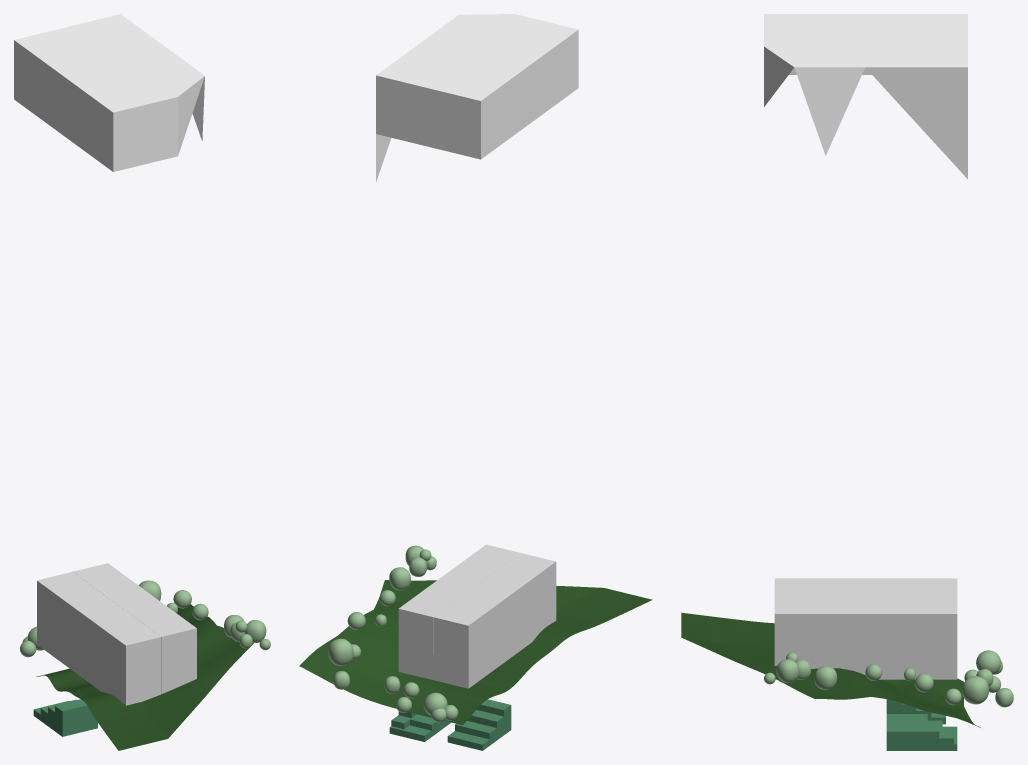
The model's file is QUT_Diagram_01.glb.
The picture shows the model from 3 angles, left to right: view 1: azimuth 30°, elevation 25°; view 2: azimuth 150°, elevation 25°; view 3: azimuth 270°, elevation 25°; orthographic projection. The views are drawn at different scales.
Parts seen in each view (by area): view 1: LayerD, LayerA_Big_1, Green.001, LayerA_Big_2, LayerC.000, Trees.002, LayerB.001, LayerA.002; view 2: LayerD, Green.001, LayerA_Big_1, LayerA_Big_2, Trees.002, LayerB.001, LayerC.000, LayerA.002, LayerA.001; view 3: LayerD, LayerA_Big_2, Green.001, Trees.002, LayerA_Big_1, LayerB.001, LayerA.001.
Part boxes in pixels (box(x1,y1,x2,y2)): LayerD: box(14, 14, 204, 171); LayerA_Big_1: box(37, 572, 161, 705); Green.001: box(36, 604, 253, 750); LayerA_Big_2: box(72, 563, 196, 693); LayerC.000: box(71, 614, 161, 704); Trees.002: box(20, 580, 270, 657); LayerB.001: box(33, 699, 97, 736); LayerA.002: box(37, 619, 71, 669); LayerD: box(376, 14, 578, 182); Green.001: box(299, 580, 652, 725); LayerA_Big_1: box(433, 553, 556, 663); LayerA_Big_2: box(398, 544, 520, 654); Trees.002: box(328, 545, 458, 722); LayerB.001: box(389, 699, 511, 750); LayerC.000: box(487, 553, 556, 661); LayerA.002: box(433, 639, 502, 688); LayerA.001: box(398, 647, 433, 680); LayerD: box(764, 14, 967, 178); LayerA_Big_2: box(774, 596, 957, 679); Green.001: box(681, 612, 980, 727); Trees.002: box(764, 650, 1013, 707); LayerA_Big_1: box(774, 578, 957, 596); LayerB.001: box(886, 699, 957, 750); LayerA.001: box(886, 653, 957, 679).
Bounding box in the file's own units: 119 × 361 × 158.
